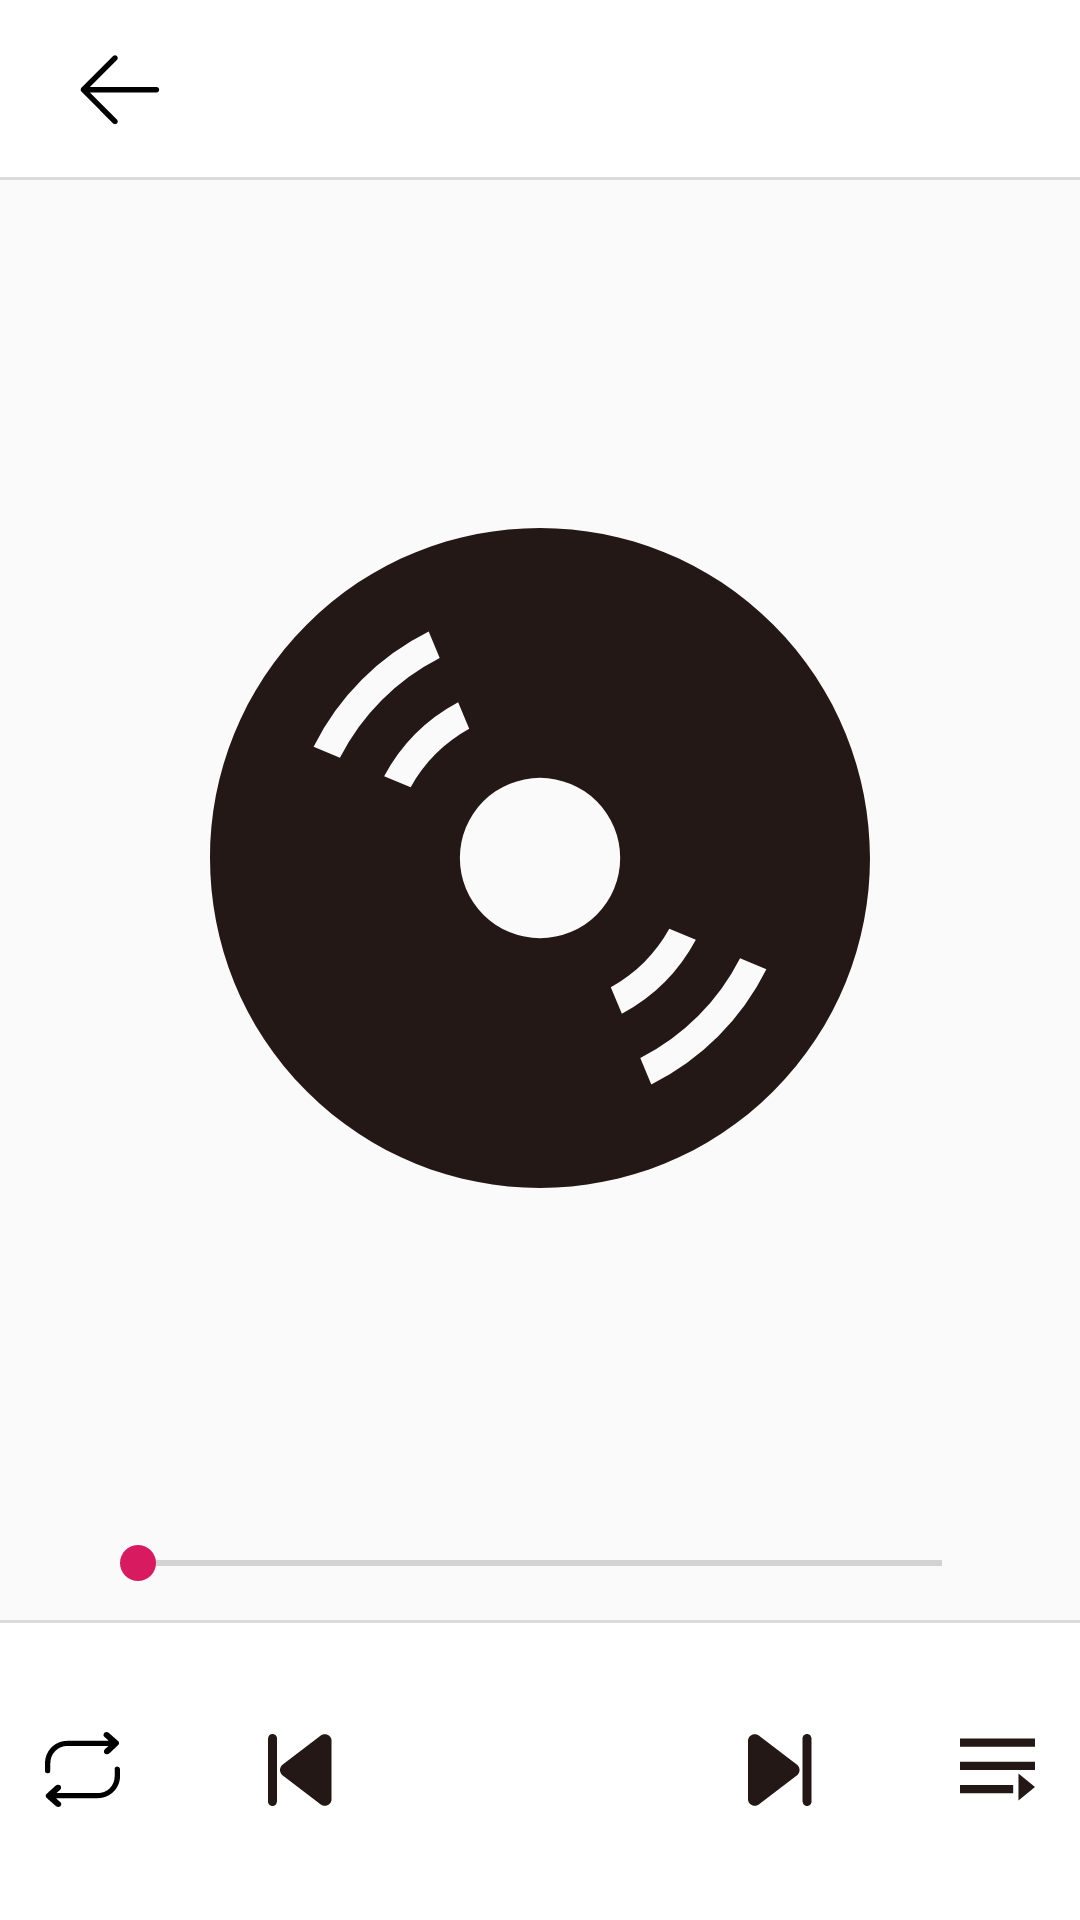

Named icons in this screenshot (1080 × 1920) and their bounding boxes, BBox(x1, y1, x2, y2):
back: BBox(80, 55, 160, 124)
last: BBox(268, 1734, 332, 1806)
next: BBox(748, 1734, 812, 1806)
play list: BBox(960, 1738, 1035, 1801)
play order: BBox(45, 1732, 120, 1807)
